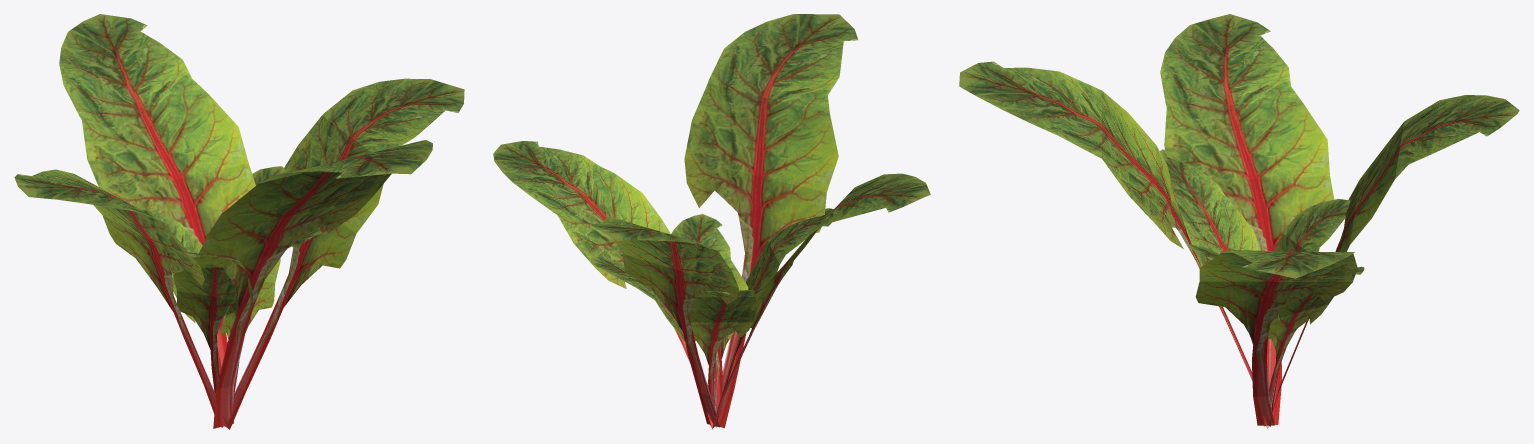
The model's file is SwissChard.fbx.
The picture shows the model from 3 angles, left to right: view 1: azimuth 30°, elevation 25°; view 2: azimuth 150°, elevation 25°; view 3: azimuth 270°, elevation 25°; orthographic projection. The views are drawn at different scales.
Parts seen in each view (by area): view 1: leaf1.003, leaf1, leaf1.001, leaf1.002, leaf1.005, leaf1.006, leaf1.004, leaf1.007; view 2: leaf1, leaf1.001, leaf1.003, leaf1.002, leaf1.004, leaf1.005, leaf1.007, leaf1.006; view 3: leaf1.002, leaf1, leaf1.001, leaf1.003, leaf1.005, leaf1.004, leaf1.006.
Boxes of the visible parts, left/top/right/bottom form: leaf1.003: left=59, top=14, right=255, bottom=423; leaf1: left=195, top=140, right=432, bottom=428; leaf1.001: left=227, top=78, right=464, bottom=429; leaf1.002: left=14, top=169, right=227, bottom=427; leaf1.005: left=173, top=251, right=253, bottom=423; leaf1.006: left=233, top=166, right=286, bottom=400; leaf1.004: left=141, top=209, right=221, bottom=373; leaf1.007: left=220, top=227, right=321, bottom=427; leaf1: left=684, top=14, right=858, bottom=427; leaf1.001: left=493, top=141, right=713, bottom=427; leaf1.003: left=590, top=216, right=738, bottom=427; leaf1.002: left=712, top=173, right=930, bottom=429; leaf1.004: left=690, top=290, right=755, bottom=425; leaf1.005: left=715, top=208, right=833, bottom=427; leaf1.007: left=671, top=214, right=748, bottom=420; leaf1.006: left=591, top=256, right=686, bottom=343; leaf1.002: left=1160, top=14, right=1334, bottom=424; leaf1: left=959, top=61, right=1267, bottom=428; leaf1.001: left=1195, top=250, right=1357, bottom=425; leaf1.003: left=1267, top=95, right=1519, bottom=428; leaf1.005: left=1160, top=149, right=1260, bottom=268; leaf1.004: left=1269, top=199, right=1350, bottom=426; leaf1.006: left=1264, top=266, right=1364, bottom=426.
Size of the model in its own units: 114 by 84.15 by 119.
